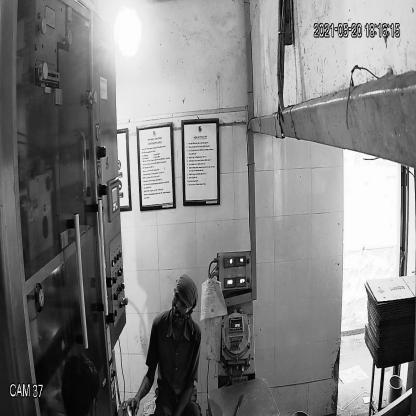goggles: (170, 290, 192, 317)
